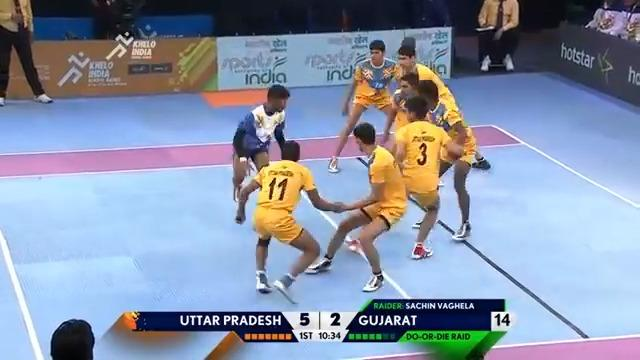Player: (234, 139, 370, 303), (304, 121, 408, 292), (393, 37, 490, 171), (392, 95, 465, 260), (326, 39, 403, 172)
Raider: (231, 83, 293, 224)
referee: (0, 0, 53, 106), (476, 0, 520, 72), (584, 0, 639, 41), (90, 0, 145, 40), (406, 0, 453, 28)
